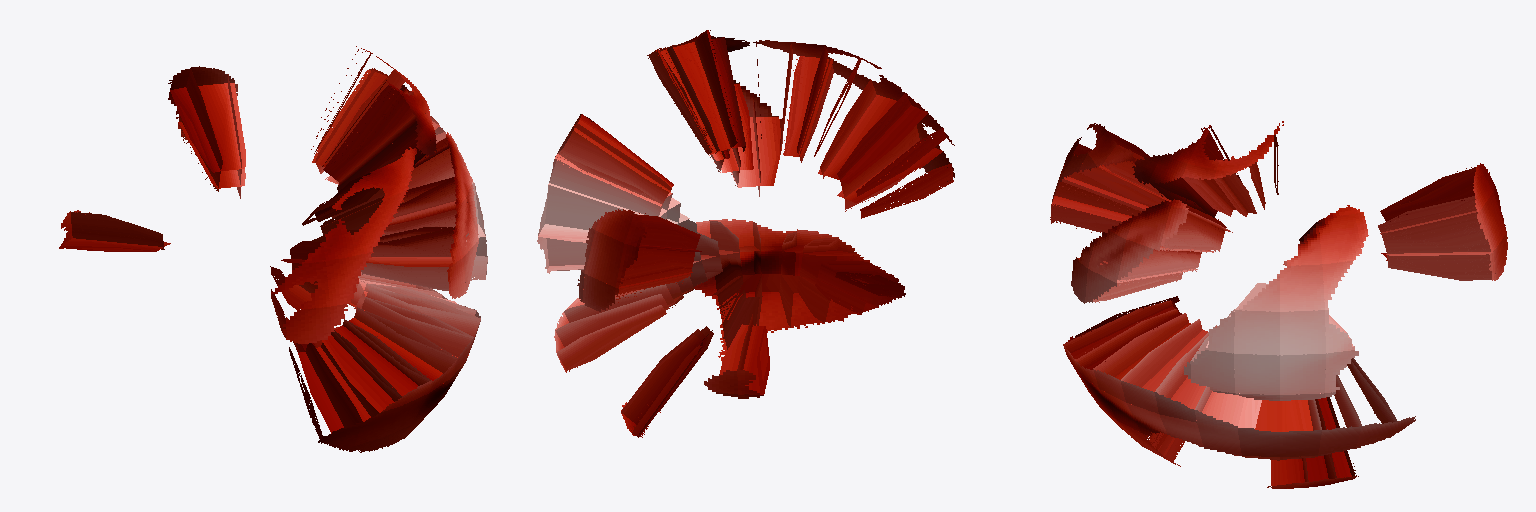
3 views of the same model, side by side, from view 1: azimuth 30°, elevation 25°; view 2: azimuth 150°, elevation 25°; view 3: azimuth 270°, elevation 25° (orthographic).
Parts seen in each view (by area): view 1: Sphere.024; view 2: Sphere.024; view 3: Sphere.024.
Part boxes in pixels (bbox=[...]): Sphere.024: bbox=[59, 46, 487, 452]; Sphere.024: bbox=[537, 30, 954, 437]; Sphere.024: bbox=[1050, 121, 1507, 488].
Bounding box in the file's own units: 0.996 × 0.996 × 0.996.
Materials: 1 (1 with a texture image).